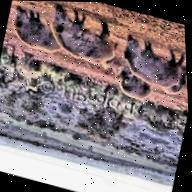boar: (38, 1, 125, 75), (113, 24, 187, 93), (4, 1, 69, 55), (106, 60, 162, 107)
